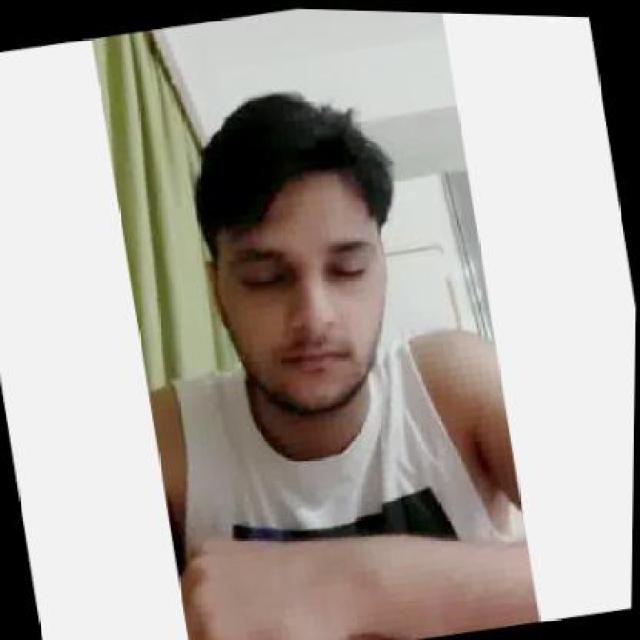inattentif: (174, 67, 418, 438)
